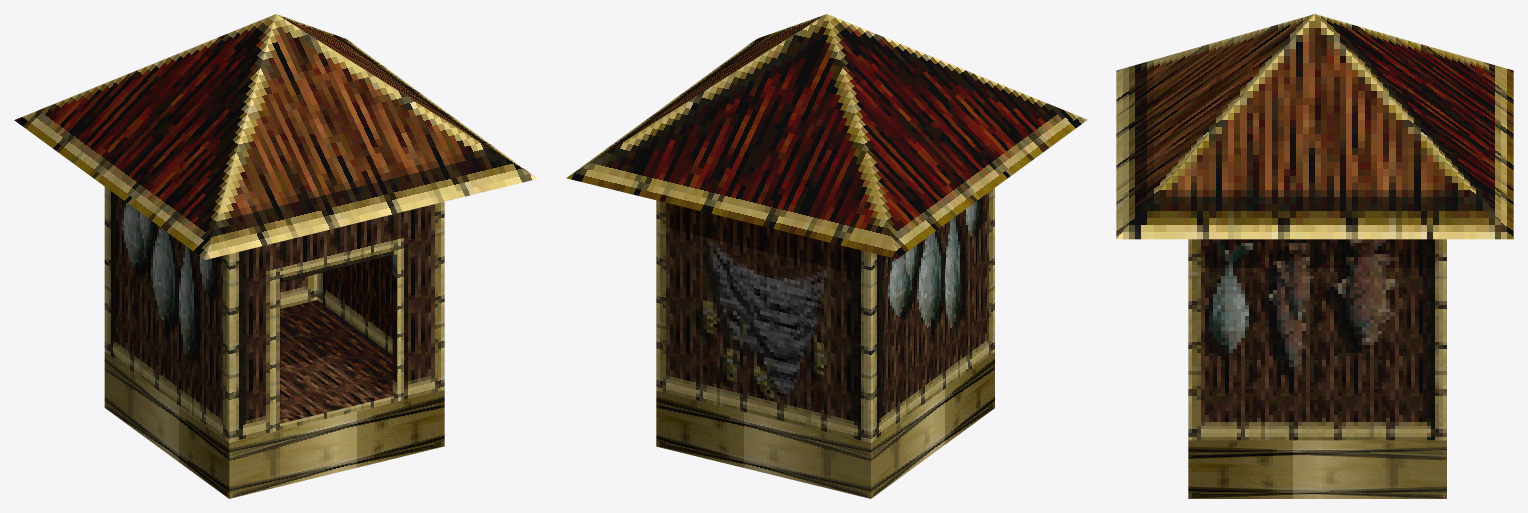
Rendered from Hut1.fbx.
3 views of the same model, side by side, from view 1: azimuth 30°, elevation 25°; view 2: azimuth 150°, elevation 25°; view 3: azimuth 270°, elevation 25° (orthographic). The views are drawn at different scales.
Visible parts, largest first — view 1: HUT1; view 2: HUT1; view 3: HUT1.
Part boxes in pixels (<box>): HUT1: <box>14,14,537,498</box>; HUT1: <box>566,14,1087,498</box>; HUT1: <box>1116,14,1513,498</box>.
Size of the model in its own units: 30.87 by 36.72 by 30.72.
